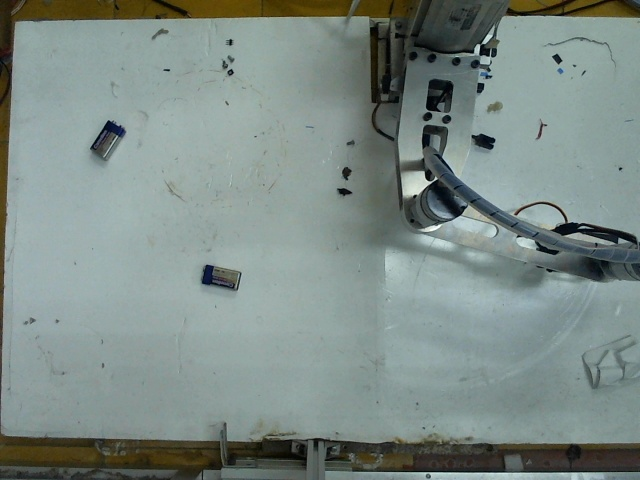battery: (193, 255, 244, 292), (87, 116, 125, 155)
